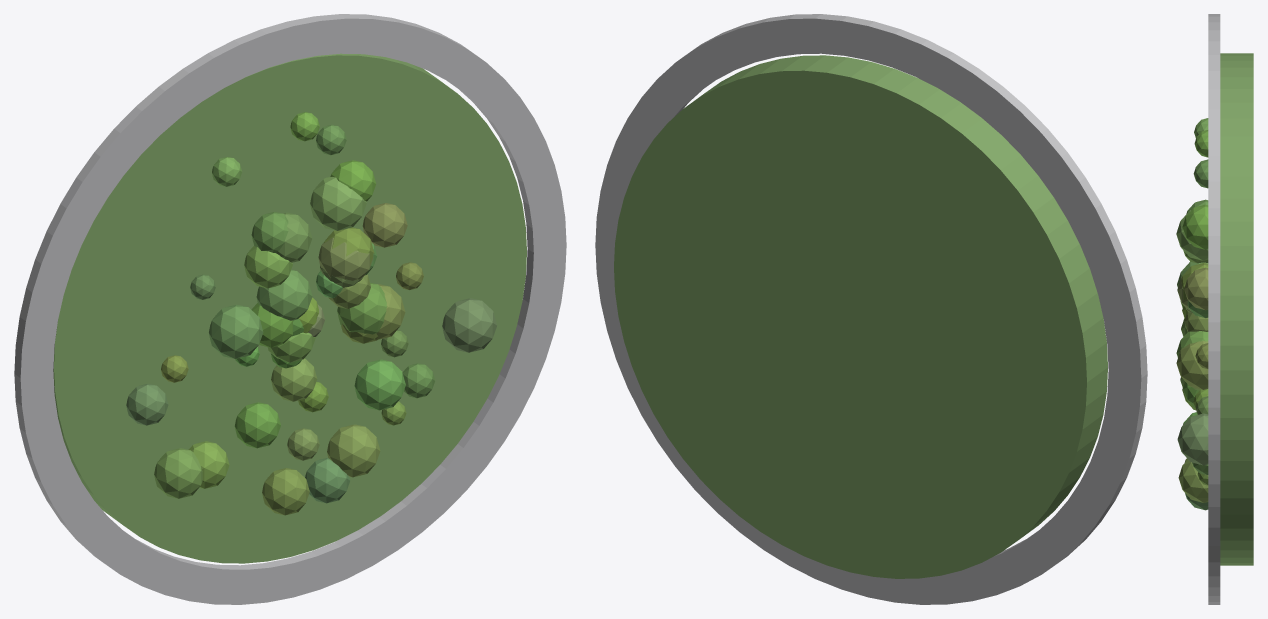
The model's file is app-moss.glb.
3 renders of one model, left to right at view 1: azimuth 30°, elevation 25°; view 2: azimuth 150°, elevation 25°; view 3: azimuth 270°, elevation 25°, orthographic. The views are drawn at different scales.
Parts seen in each view (by area): view 1: app_moss, ring; view 2: app_moss, ring; view 3: app_moss, ring.
Part boxes in pixels (x1=…): app_moss: x1=53, y1=53, x2=526, y2=563; ring: x1=14, y1=14, x2=566, y2=604; app_moss: x1=614, y1=55, x2=1107, y2=578; ring: x1=595, y1=14, x2=1147, y2=604; app_moss: x1=1176, y1=53, x2=1253, y2=565; ring: x1=1208, y1=14, x2=1220, y2=604.
Bounding box in the file's own units: 0.15 × 0.15 × 0.0196.
